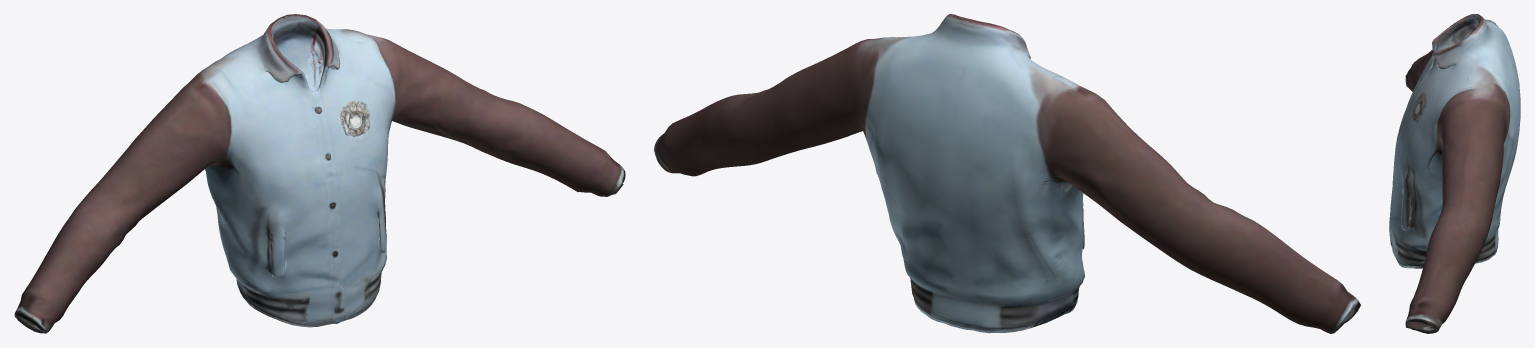
File: JacketUvallefinal_1111032647.glb
3 views of the same model, side by side, from view 1: azimuth 30°, elevation 25°; view 2: azimuth 150°, elevation 25°; view 3: azimuth 270°, elevation 25° (orthographic). The views are drawn at different scales.
Size of the model in its own units: 1.99 by 0.8589 by 0.4329.
1 material, 1 textured.
